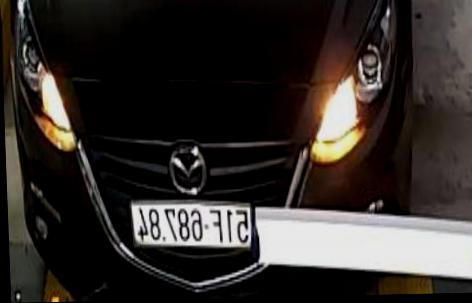License_Plate: (126, 193, 256, 252)
